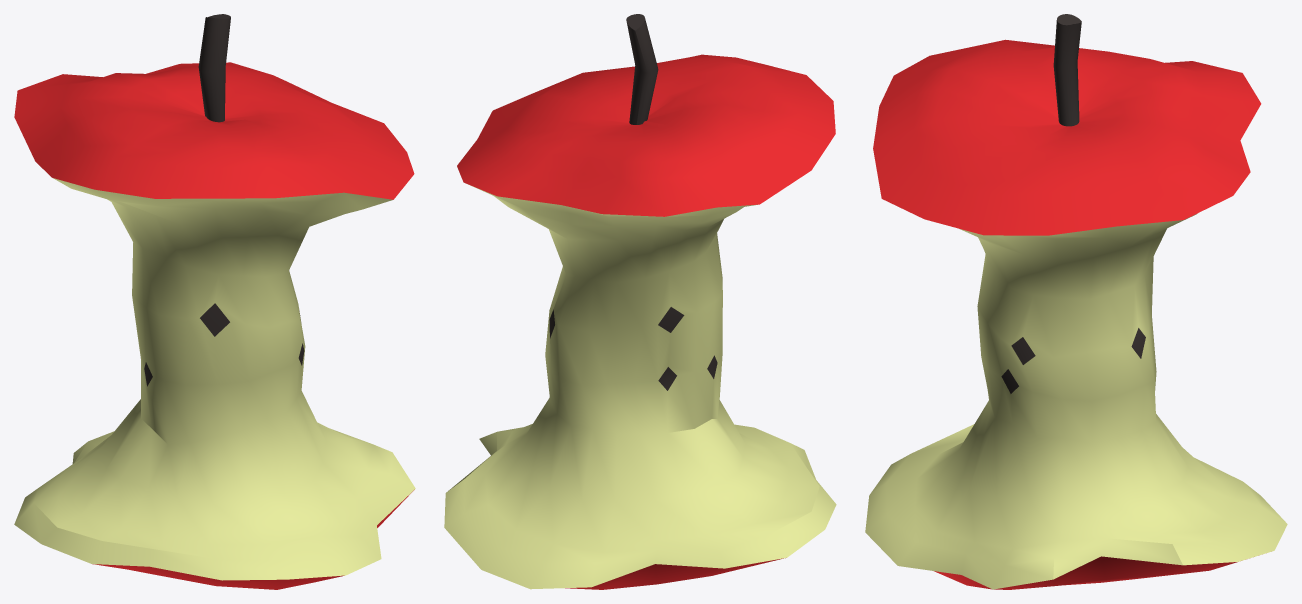
Rendered from Apple.fbx.
3 renders of one model, left to right at view 1: azimuth 30°, elevation 25°; view 2: azimuth 150°, elevation 25°; view 3: azimuth 270°, elevation 25°, orthographic. The views are drawn at different scales.
Visible parts, largest first — view 1: Apple; view 2: Apple; view 3: Apple.
Part boxes in pixels (x1=…): Apple: x1=14, y1=14, x2=415, y2=589; Apple: x1=444, y1=14, x2=836, y2=589; Apple: x1=865, y1=14, x2=1287, y2=589.
Size of the model in its own units: 12.93 by 18.5 by 13.28.
